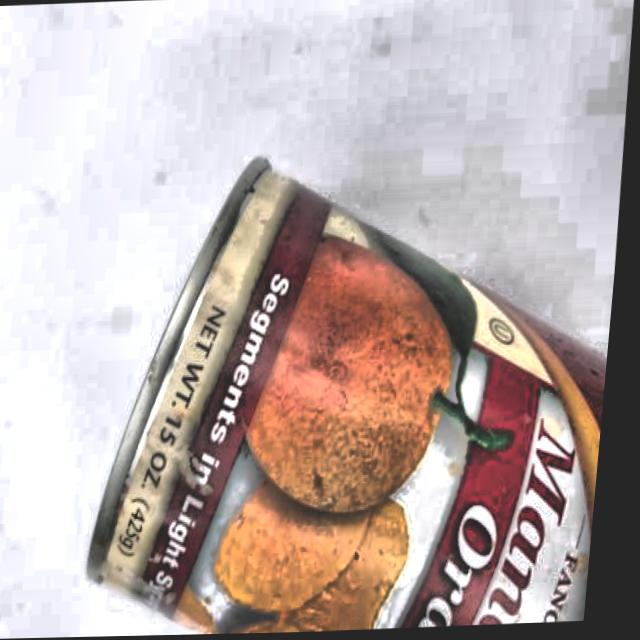Cans: (31, 109, 632, 639)
